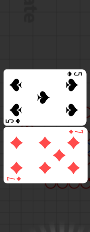5C: (66, 70, 83, 77)
7D: (68, 128, 84, 134)
